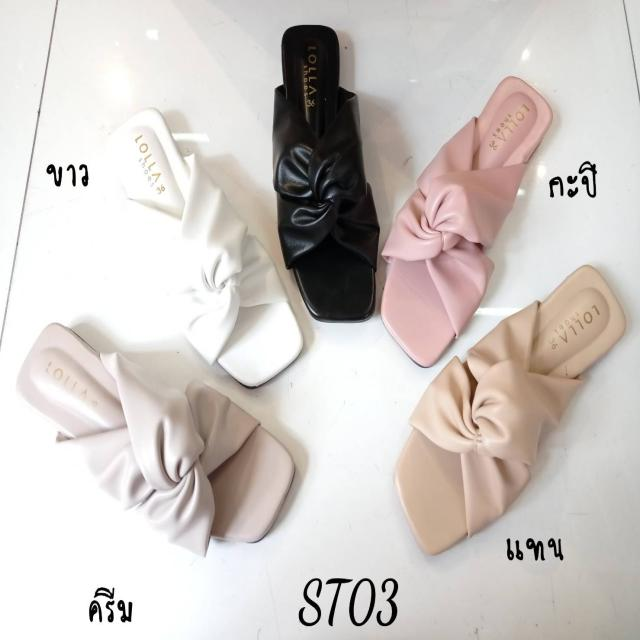black: (273, 22, 375, 322)
cream: (17, 318, 290, 552)
kapi: (378, 79, 552, 358)
tan: (395, 264, 625, 554)
white: (115, 113, 301, 378)
